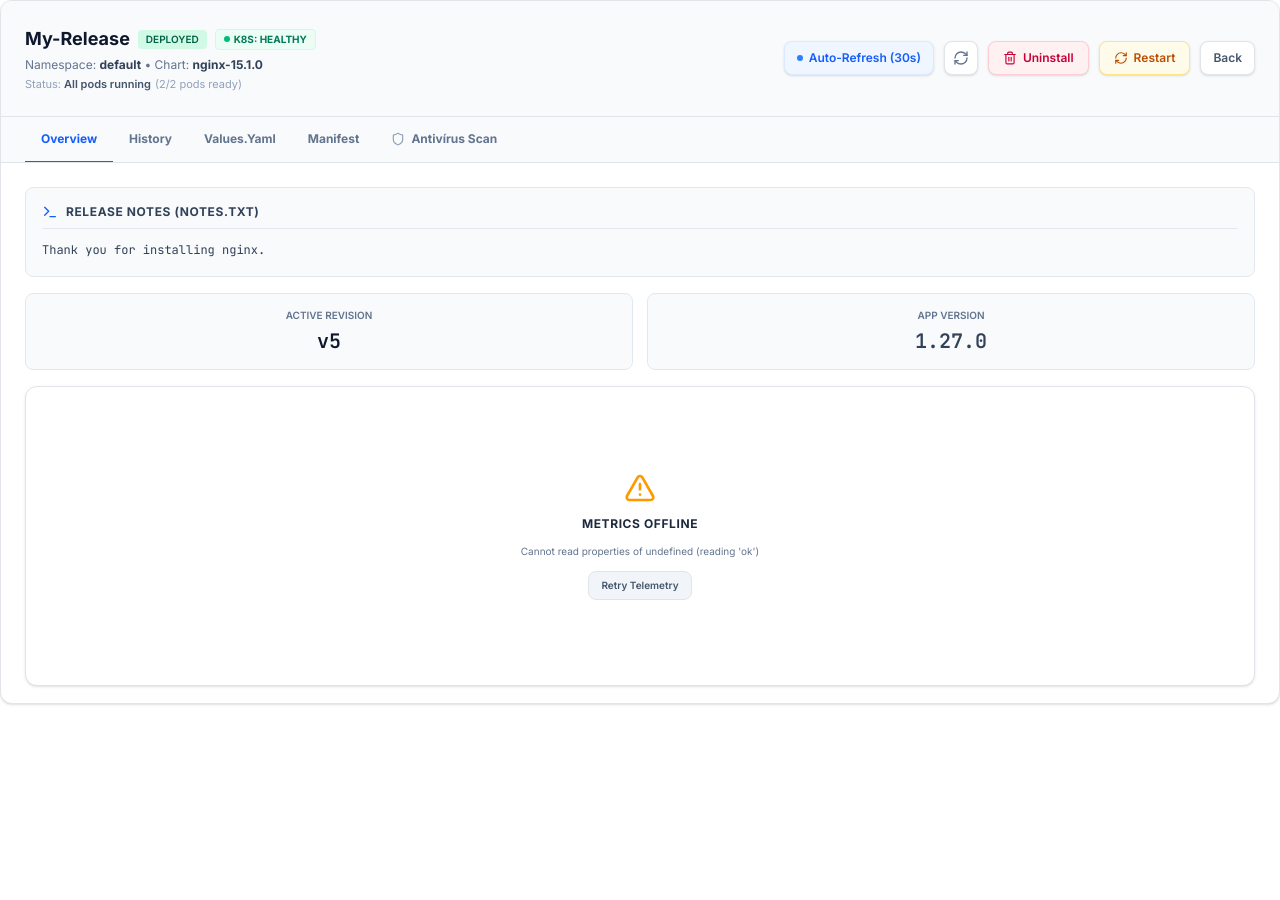
Test: ReleaseDetails › shows action error message
Click the button "Restart": (1144, 58) [1099, 41, 1190, 75]
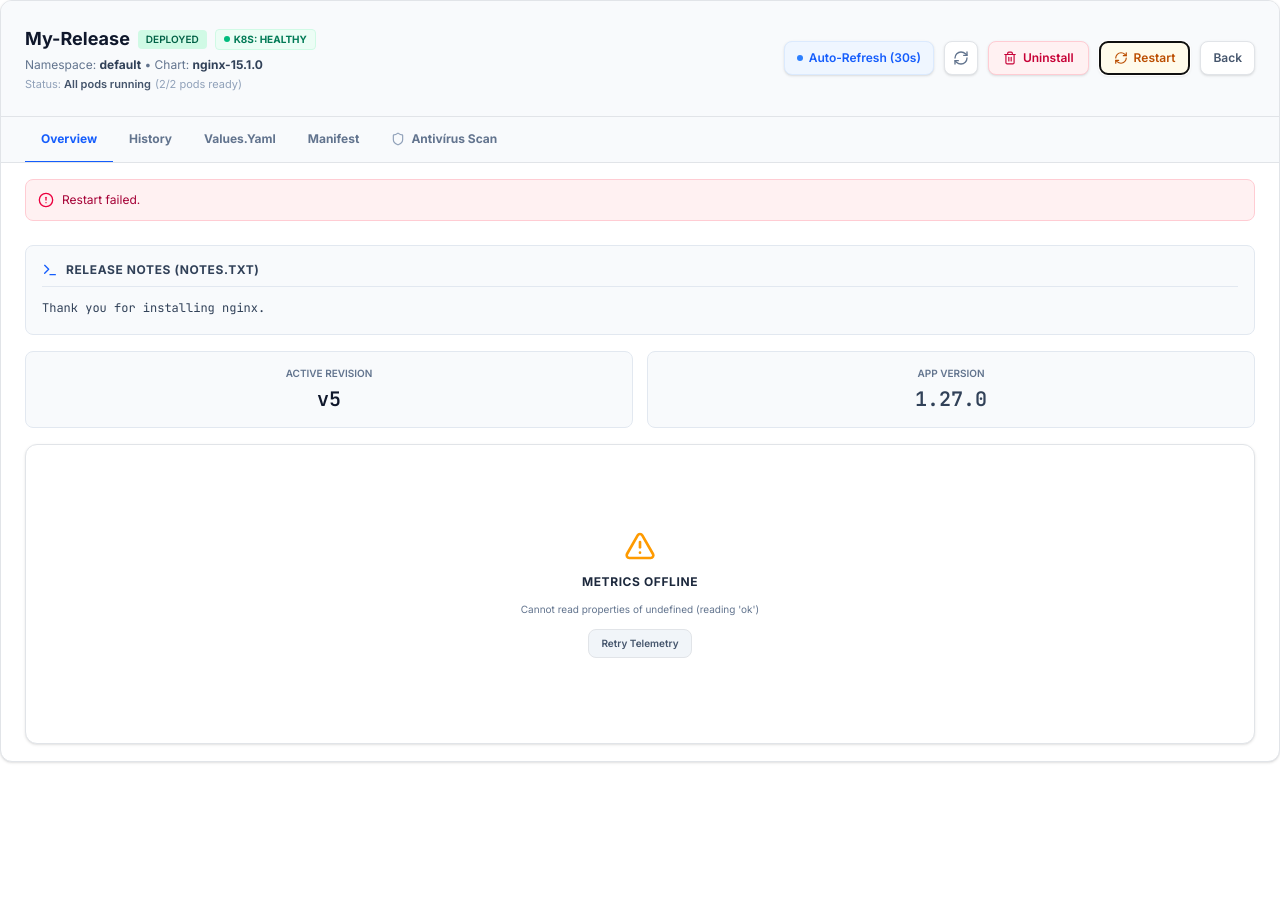
Check: the text "Restart failed." is shown, box [62, 192, 140, 208]
